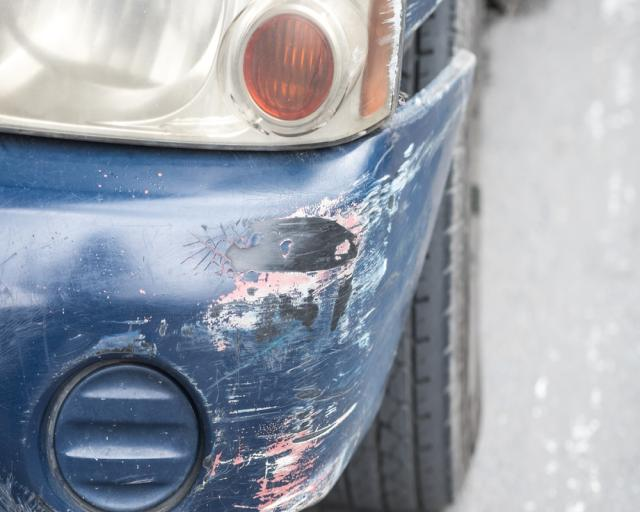scratch: (96, 96, 463, 512), (378, 0, 401, 103)
